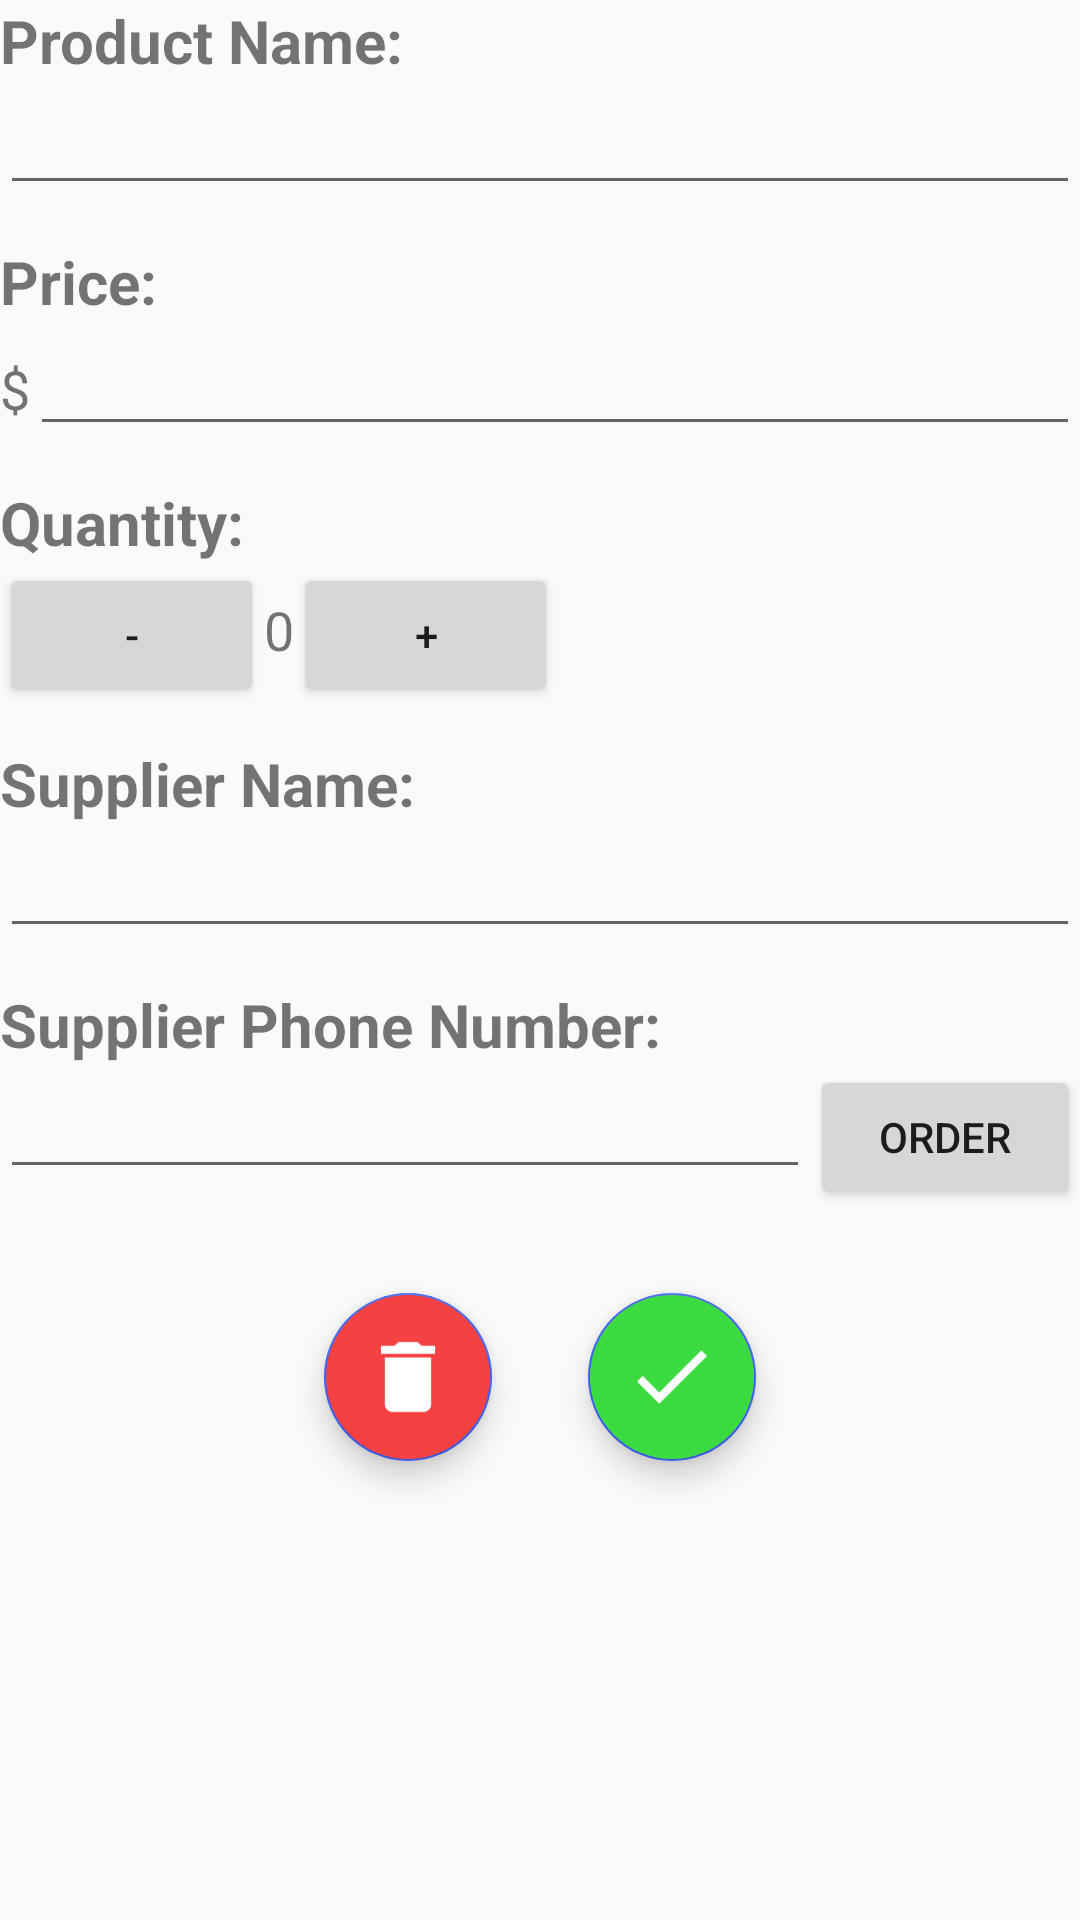

Screen size 1080*1920. Icon name, then its box in pixels as bbox=[x1, y1, x2, y2]:
check: bbox=[588, 1293, 756, 1461]
delete: bbox=[324, 1293, 492, 1461]
